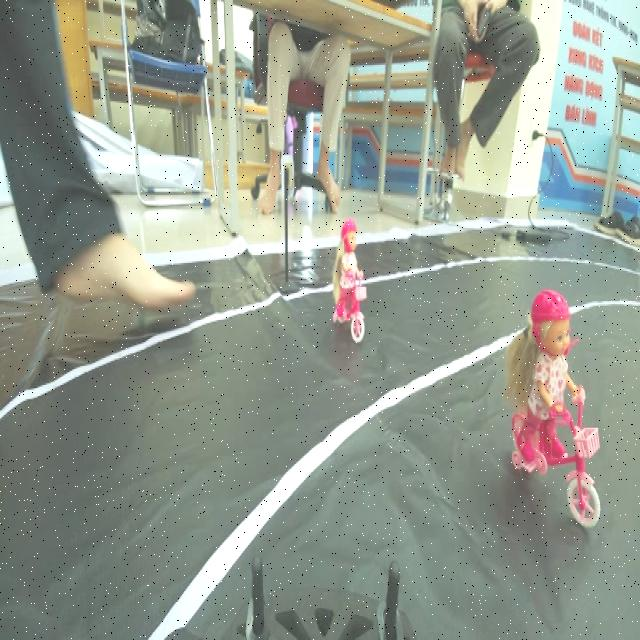pedestrian: (498, 281, 608, 533), (325, 225, 377, 342)
